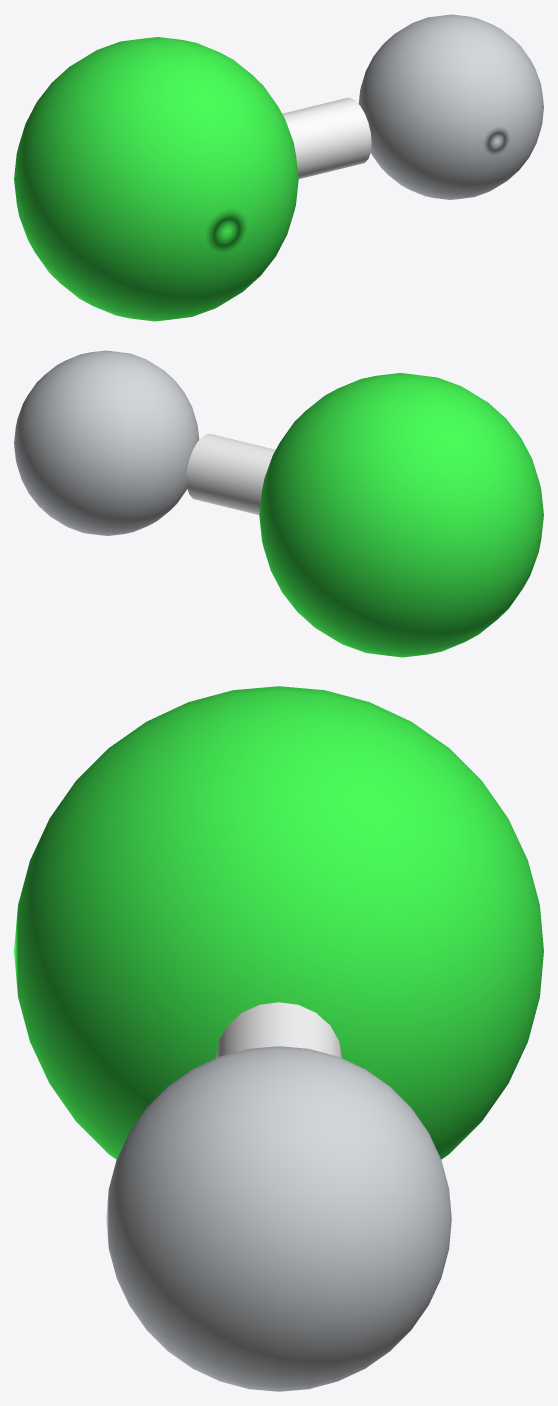
File: hydrochloric_acid.glb
3 renders of one model, top to bottom at view 1: azimuth 30°, elevation 25°; view 2: azimuth 150°, elevation 25°; view 3: azimuth 270°, elevation 25°, orthographic. The views are drawn at different scales.
Parts seen in each view (by area): view 1: Chlorine_Cl, Hydrogen_H, H_Cl_Bond; view 2: Chlorine_Cl, Hydrogen_H, H_Cl_Bond; view 3: Chlorine_Cl, Hydrogen_H, H_Cl_Bond.
Part boxes in pixels (box(x1,y1,x2,y2)): Chlorine_Cl: box(14, 37, 298, 321); Hydrogen_H: box(358, 14, 543, 199); H_Cl_Bond: box(282, 97, 371, 178); Chlorine_Cl: box(259, 373, 543, 657); Hydrogen_H: box(14, 350, 199, 535); H_Cl_Bond: box(186, 433, 275, 514); Chlorine_Cl: box(14, 686, 543, 1159); Hydrogen_H: box(106, 1046, 451, 1391); H_Cl_Bond: box(216, 1002, 341, 1058).
Bounding box in the file's own units: 0.93 × 0.46 × 0.46.
